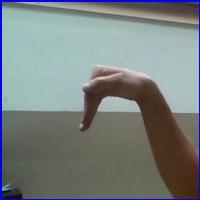del: (74, 60, 161, 141)
